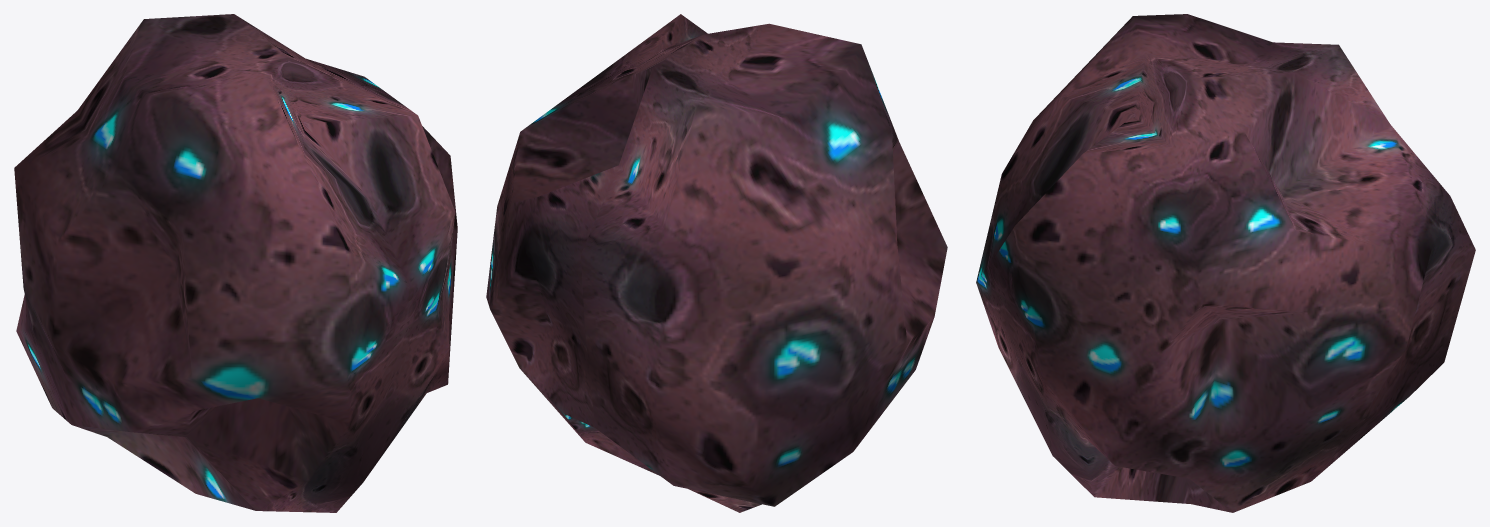
Rendered from Asteroid_Med_A_01.FBX.
3 views of the same model, side by side, from view 1: azimuth 30°, elevation 25°; view 2: azimuth 150°, elevation 25°; view 3: azimuth 270°, elevation 25° (orthographic).
Visible parts, largest first — view 1: Asteroid_Med_A_01; view 2: Asteroid_Med_A_01; view 3: Asteroid_Med_A_01.
Boxes of the visible parts, x1,y1,x2,y2 form: Asteroid_Med_A_01: (14, 14, 457, 512); Asteroid_Med_A_01: (486, 14, 947, 512); Asteroid_Med_A_01: (976, 14, 1475, 512).
Bounding box in the file's own units: 567 × 626 × 638.
Materials: 1 (1 with a texture image).
